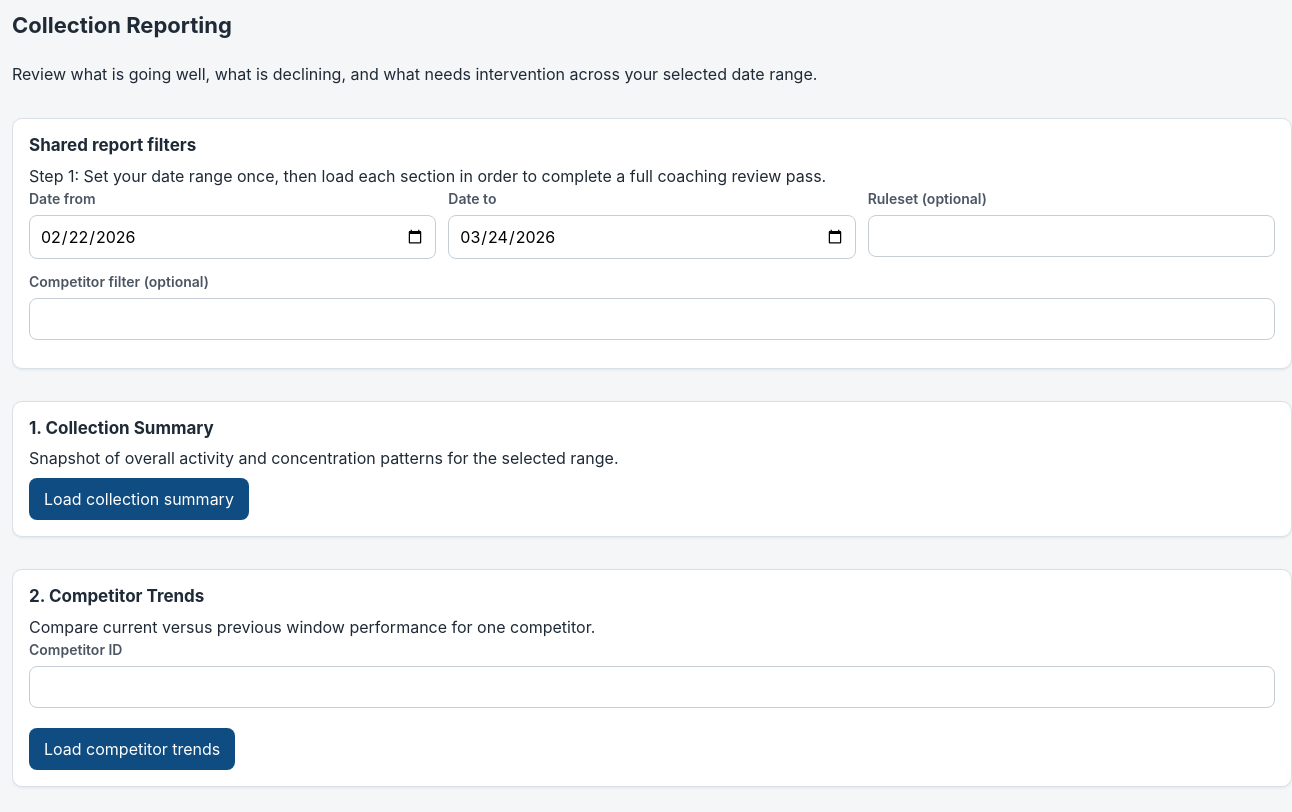
Scenario: ReportsPage › renders insights in priority order with the highest-priority item first
Click the button "Load collection summary".
click(139, 499)  # box [29, 478, 249, 520]
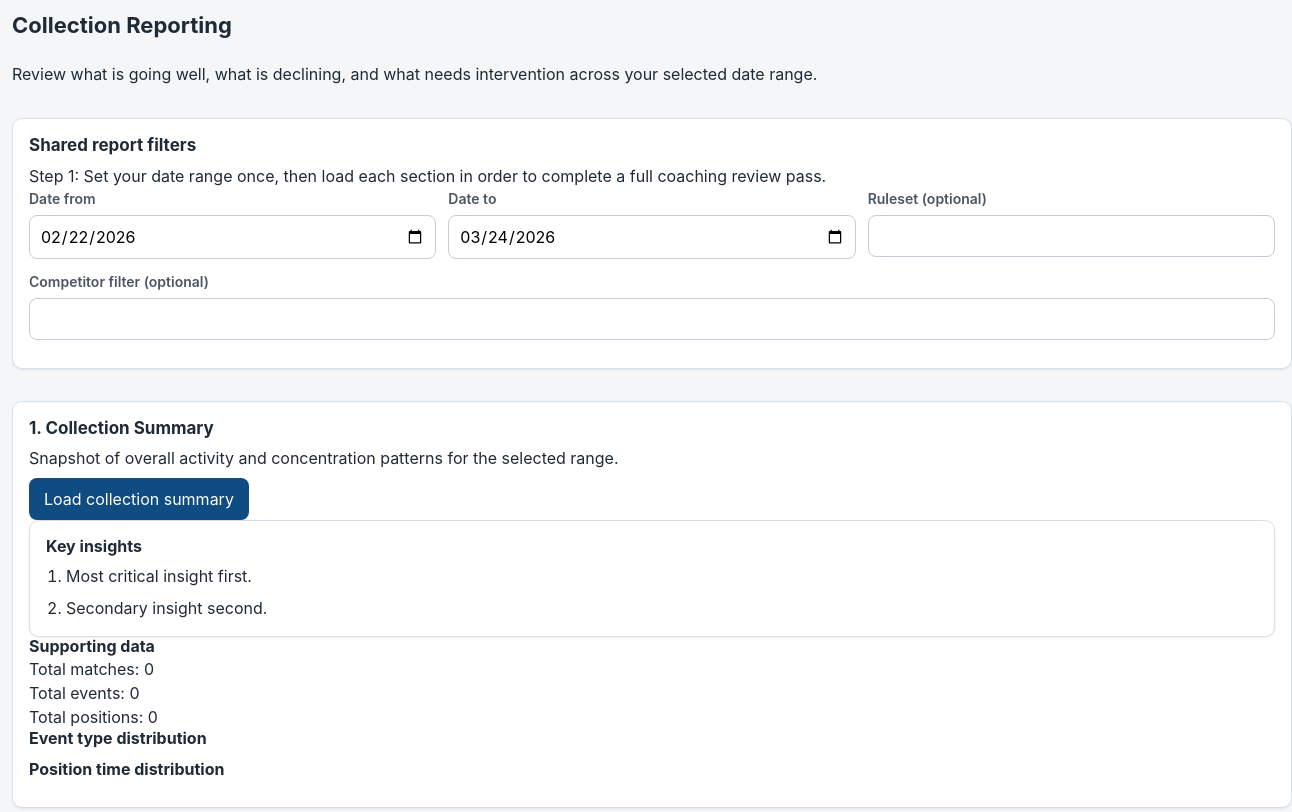
Expected: the list item "Most critical insight first." is shown, [66, 566, 252, 586]
Expected: the list item "Secondary insight second." is shown, [66, 598, 267, 618]
